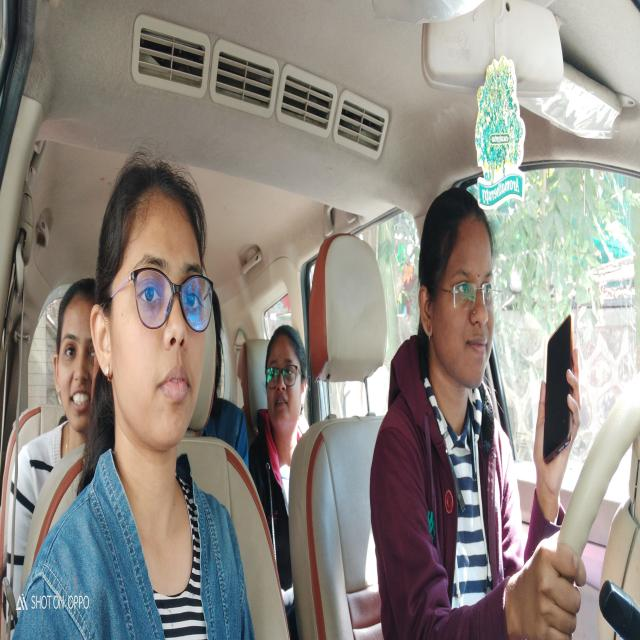mobile: (538, 315, 578, 469)
person: (89, 154, 212, 452), (412, 182, 499, 394), (55, 272, 101, 436), (260, 321, 310, 441)
